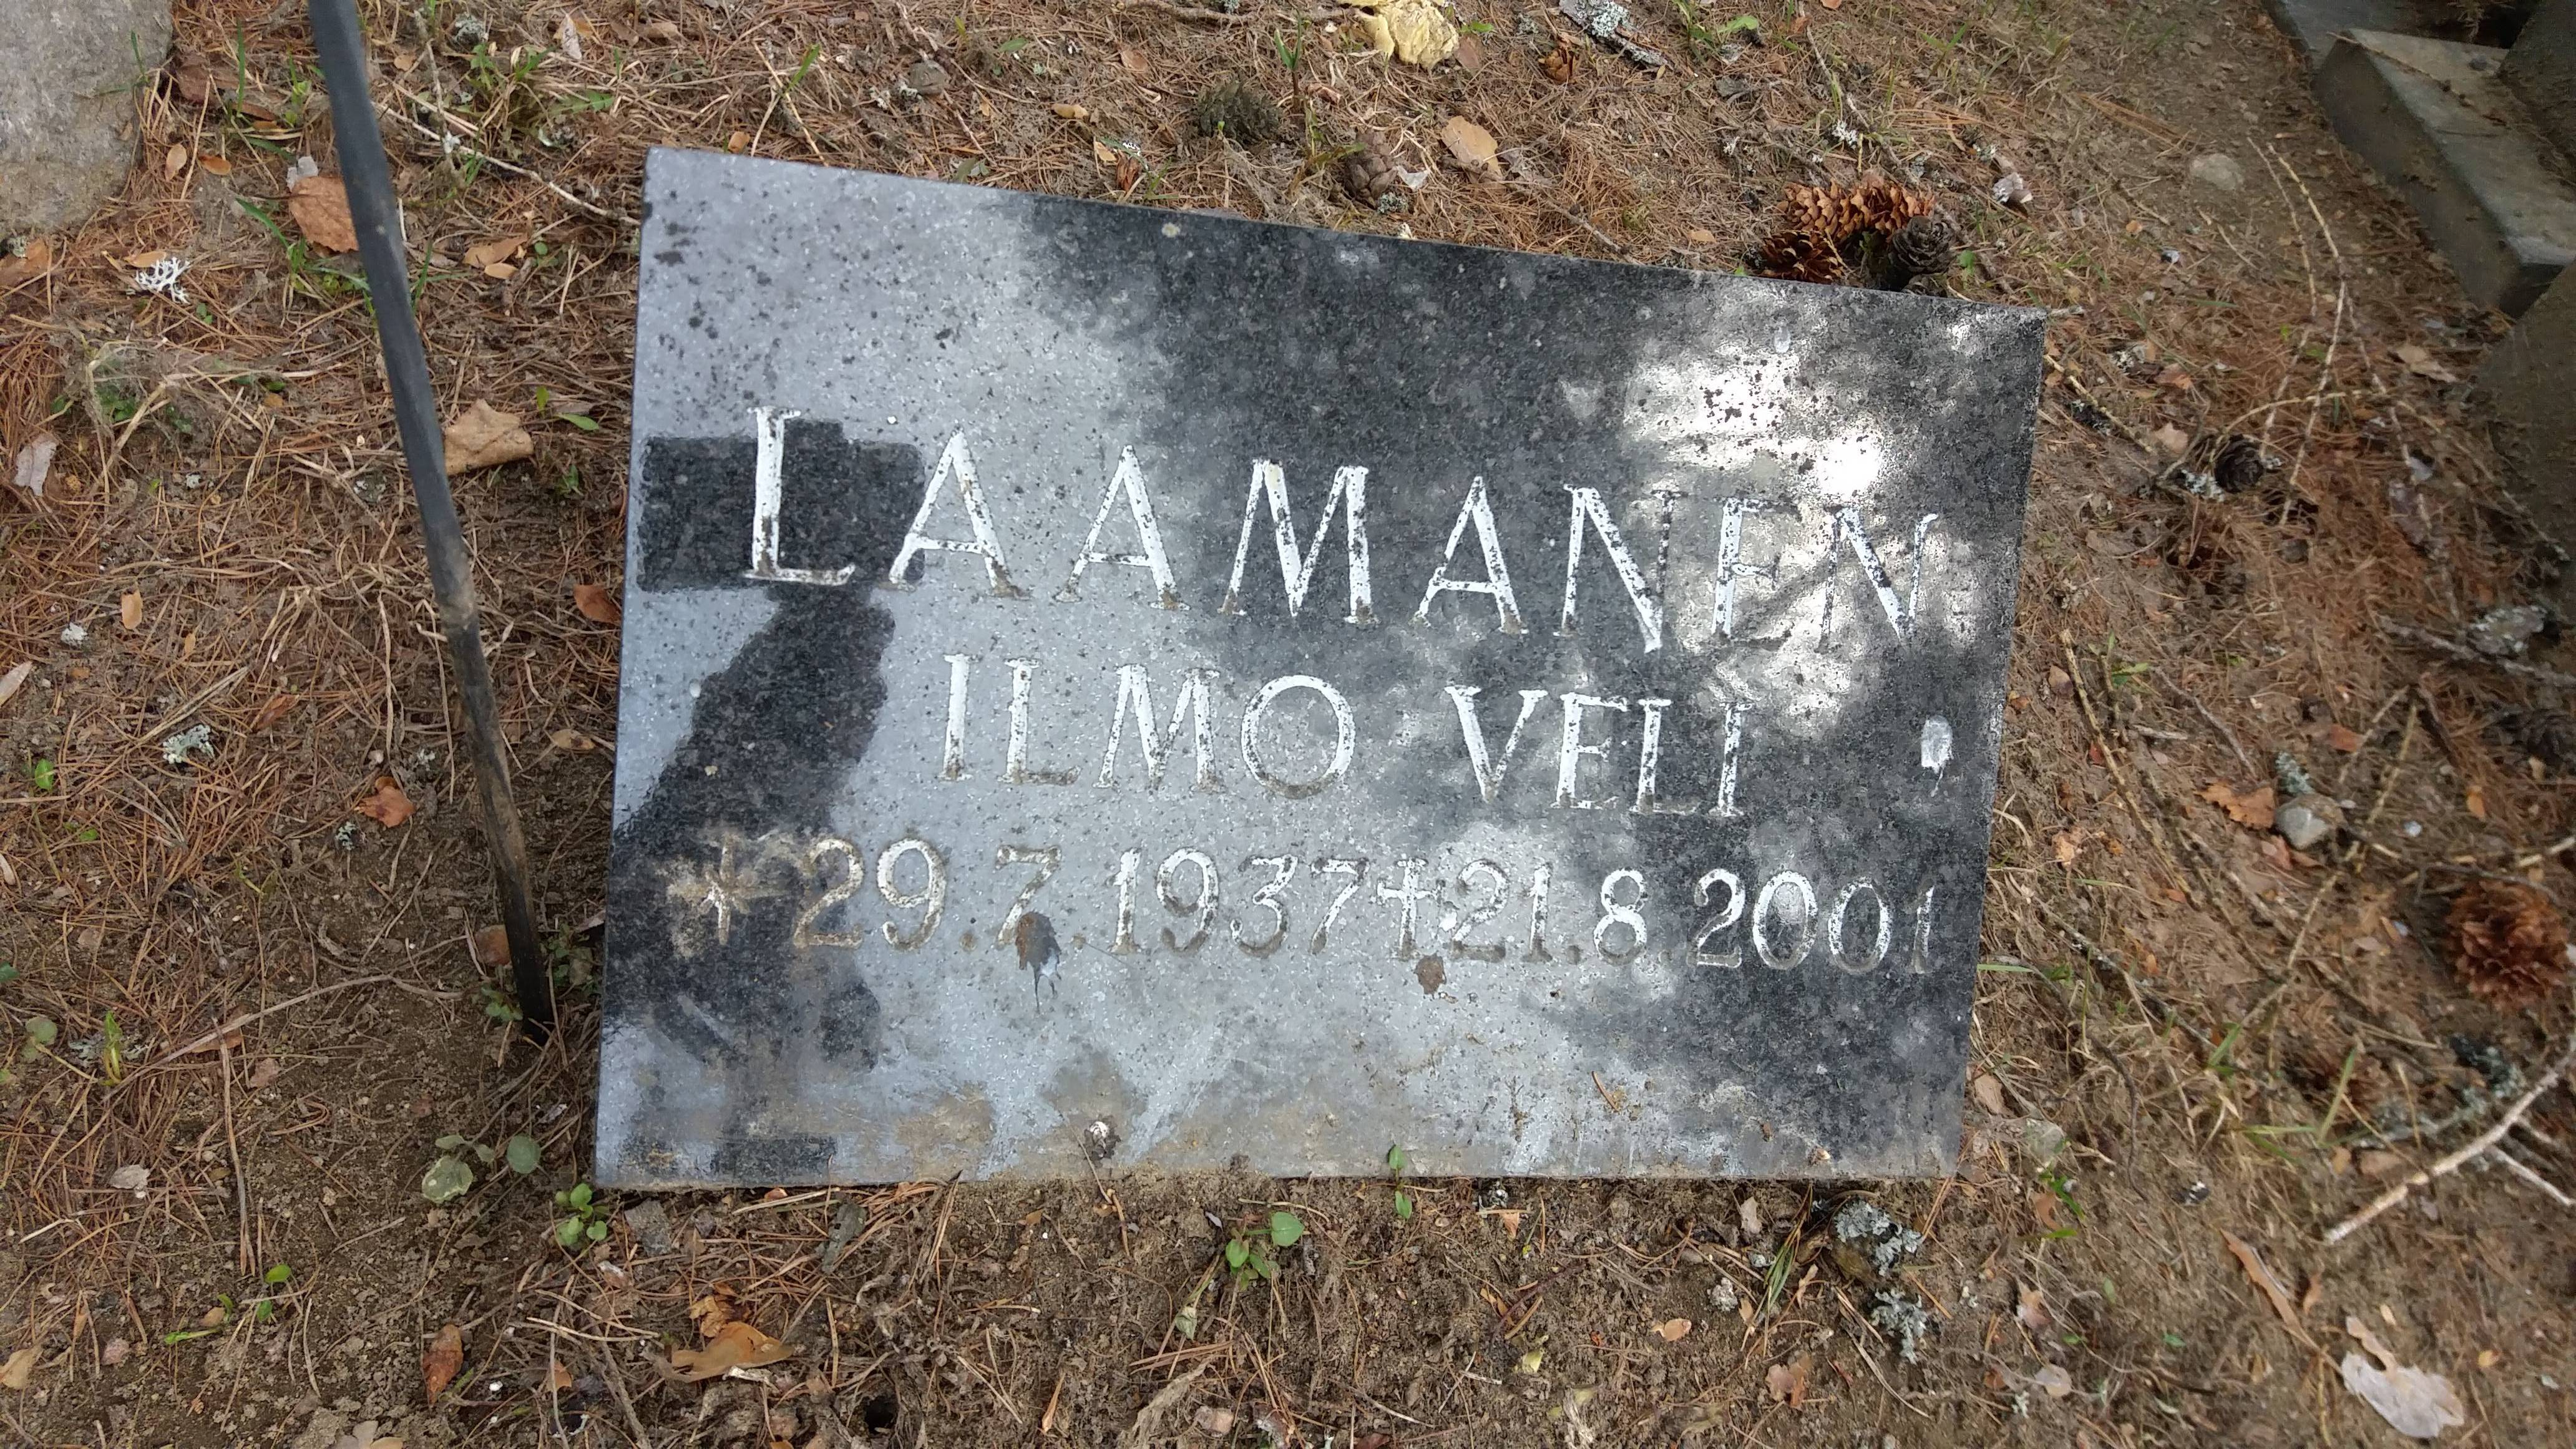flat: (577, 136, 2068, 1205)
